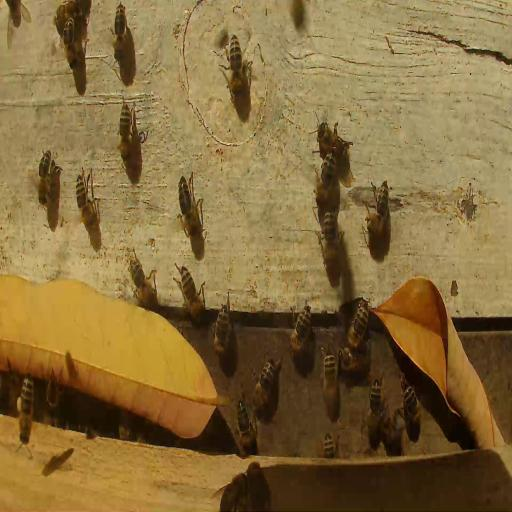bee: (313, 121, 351, 173), (176, 261, 204, 324), (15, 372, 35, 447), (76, 167, 98, 229), (314, 151, 339, 205), (129, 256, 156, 306), (254, 356, 280, 406), (246, 460, 272, 509), (228, 34, 246, 103), (235, 398, 256, 454), (323, 349, 339, 422), (348, 299, 371, 348), (290, 303, 312, 353), (366, 376, 384, 436), (118, 98, 134, 165), (402, 381, 423, 431), (214, 302, 232, 360), (321, 211, 342, 260), (62, 14, 80, 70), (218, 476, 246, 511), (114, 2, 130, 61), (337, 347, 369, 375), (178, 172, 195, 222), (38, 147, 51, 207), (372, 180, 390, 222), (55, 1, 85, 24), (46, 371, 58, 414), (290, 0, 305, 29), (188, 196, 202, 226), (322, 432, 337, 458), (118, 423, 132, 440)
